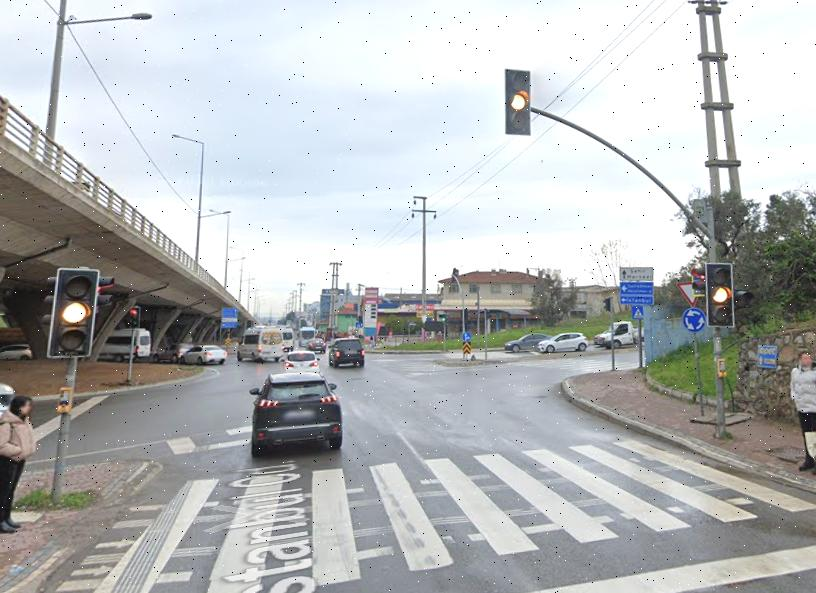crossroads: (683, 309, 705, 332)
yellowlight: (51, 268, 98, 357), (506, 68, 532, 136), (708, 265, 732, 324)
